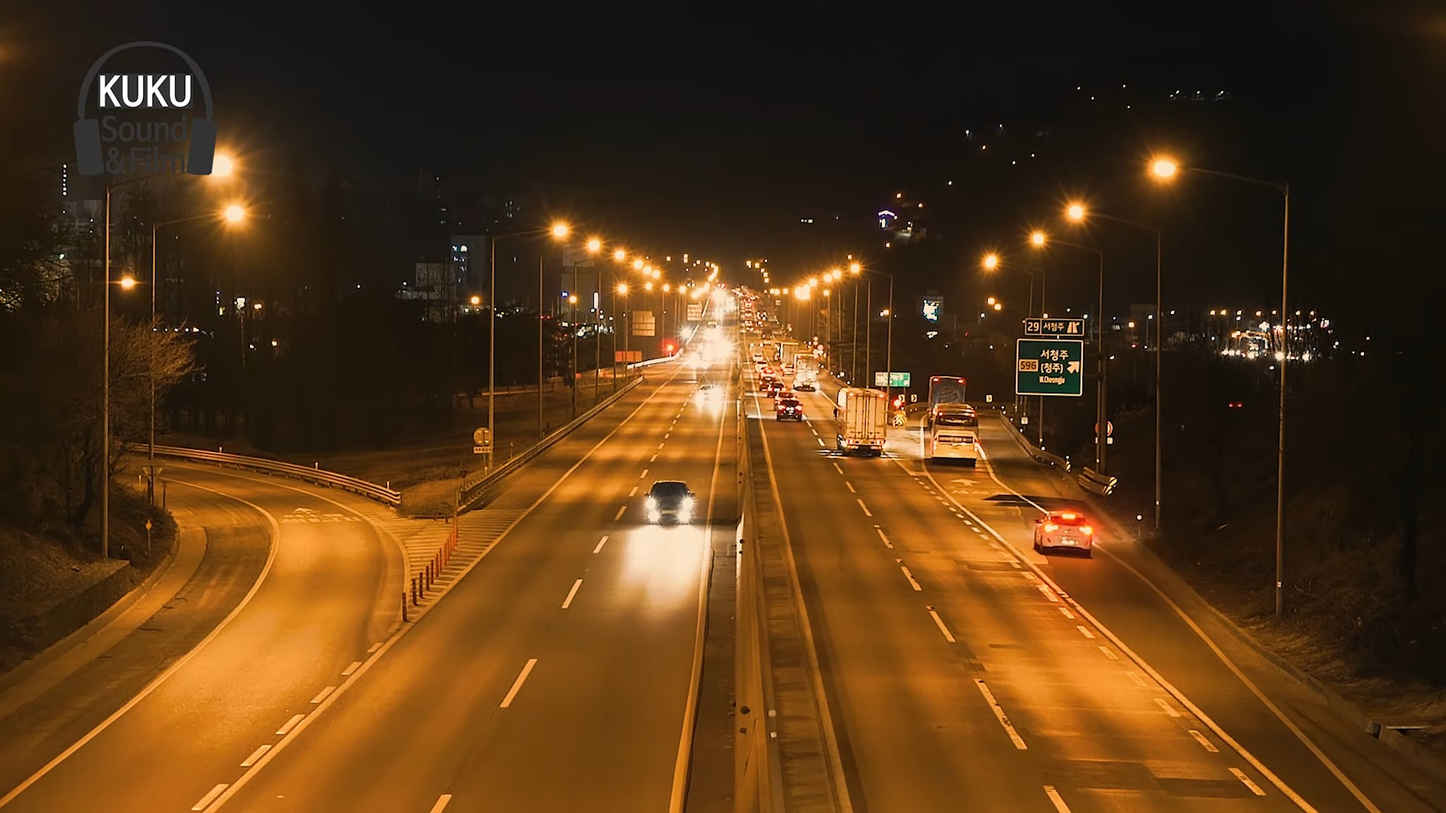car: (931, 396, 984, 467), (636, 480, 698, 528), (1033, 507, 1092, 553)
truck: (839, 383, 890, 459)
